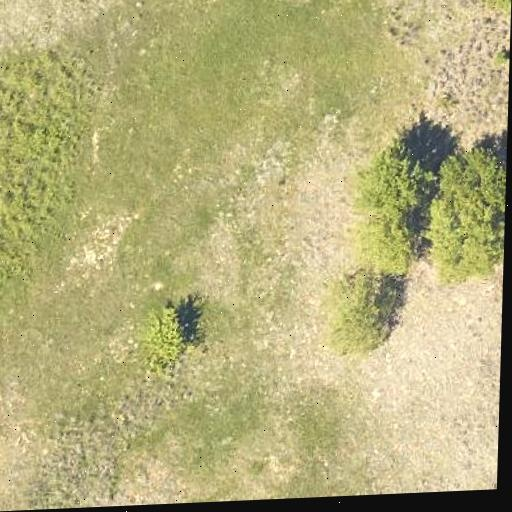tree-top: (424, 140, 507, 284), (346, 150, 429, 272), (328, 273, 412, 357), (128, 299, 194, 374), (470, 0, 512, 17)
